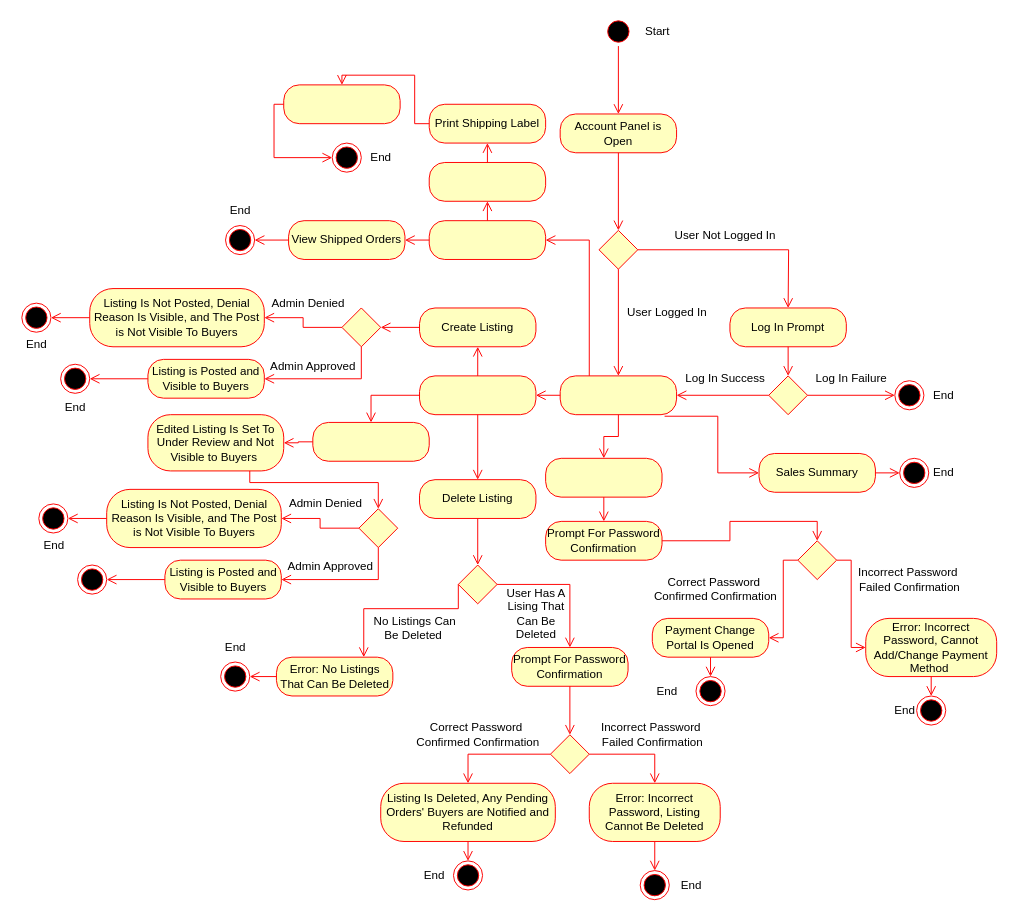
Some shapes in this 1014 by 917 pixel diagram are drawn without their labels. Here are the shapes that lost their labels. From the top down, the box of each, then its label:
(283, 84, 400, 124): Mark Order As Shipped/Fufilled
(428, 162, 546, 201): Unfulfilled Orders
(428, 220, 546, 259): My Orders
(419, 375, 536, 415): View My Listings
(559, 375, 677, 415): Seller Dashboard
(312, 421, 429, 461): Edit Listing
(545, 457, 662, 497): Add Deposit Method
